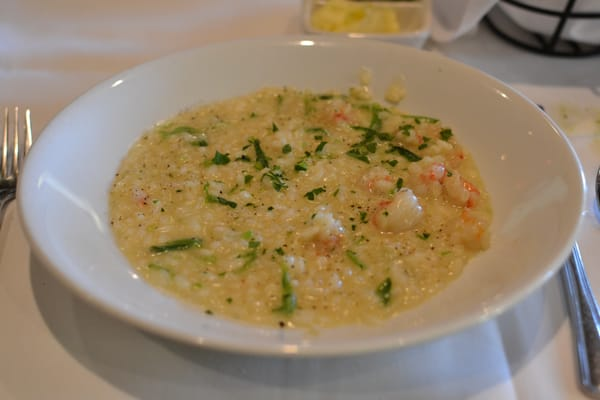pizza: (429, 0, 497, 44)
sushi: (36, 38, 587, 384), (102, 76, 511, 346), (299, 0, 432, 48)
